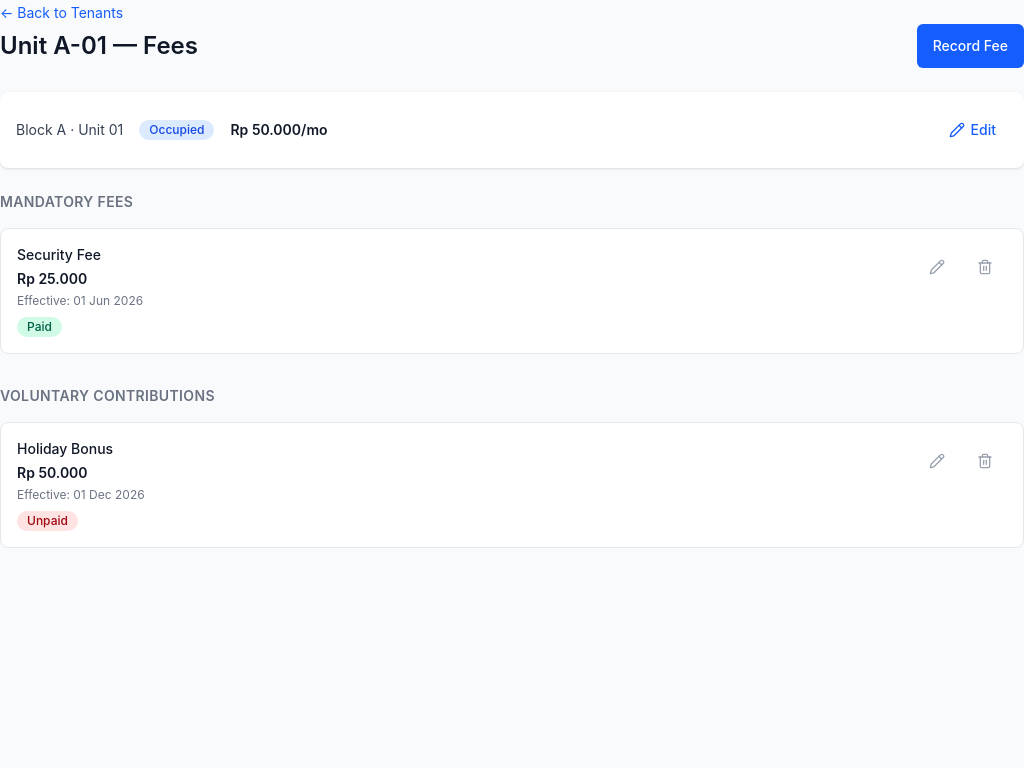
TenantDetailPage › opens FeeForm modal when Record Fee button clicked
Click the button "Record Fee".
click(970, 46)  # box [917,24,1023,68]
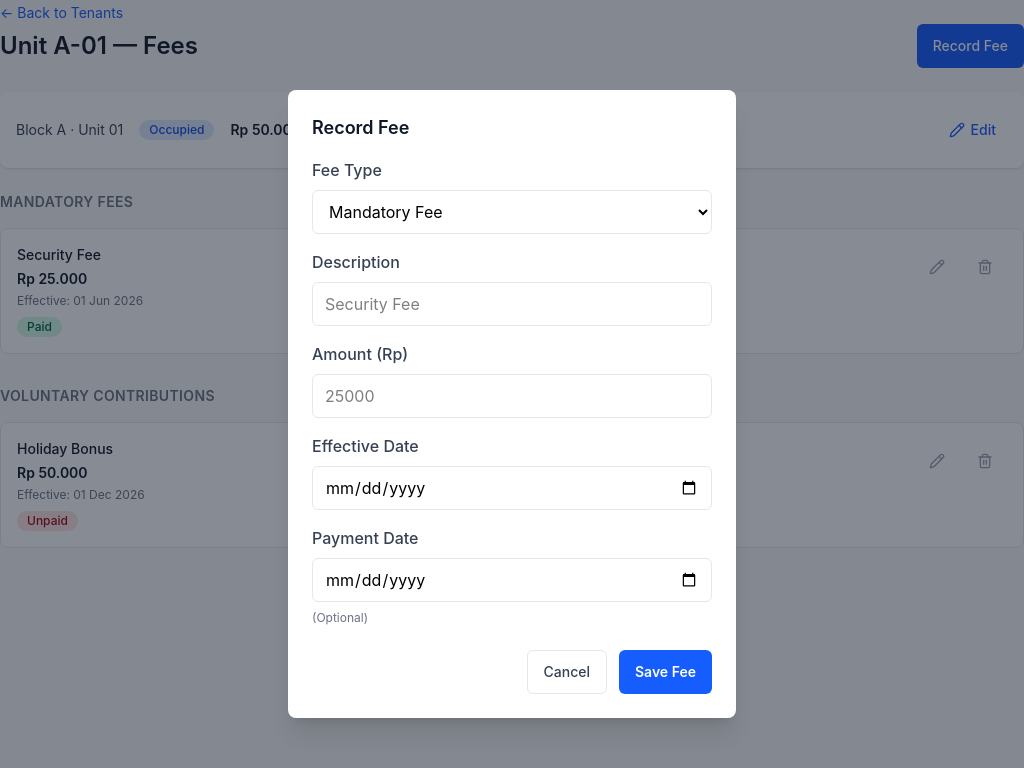
Expected: the field labelled "Description" is shown, [312,282,712,326]
Expected: the dropdown labelled "Fee Type" is shown, [312,190,712,234]
